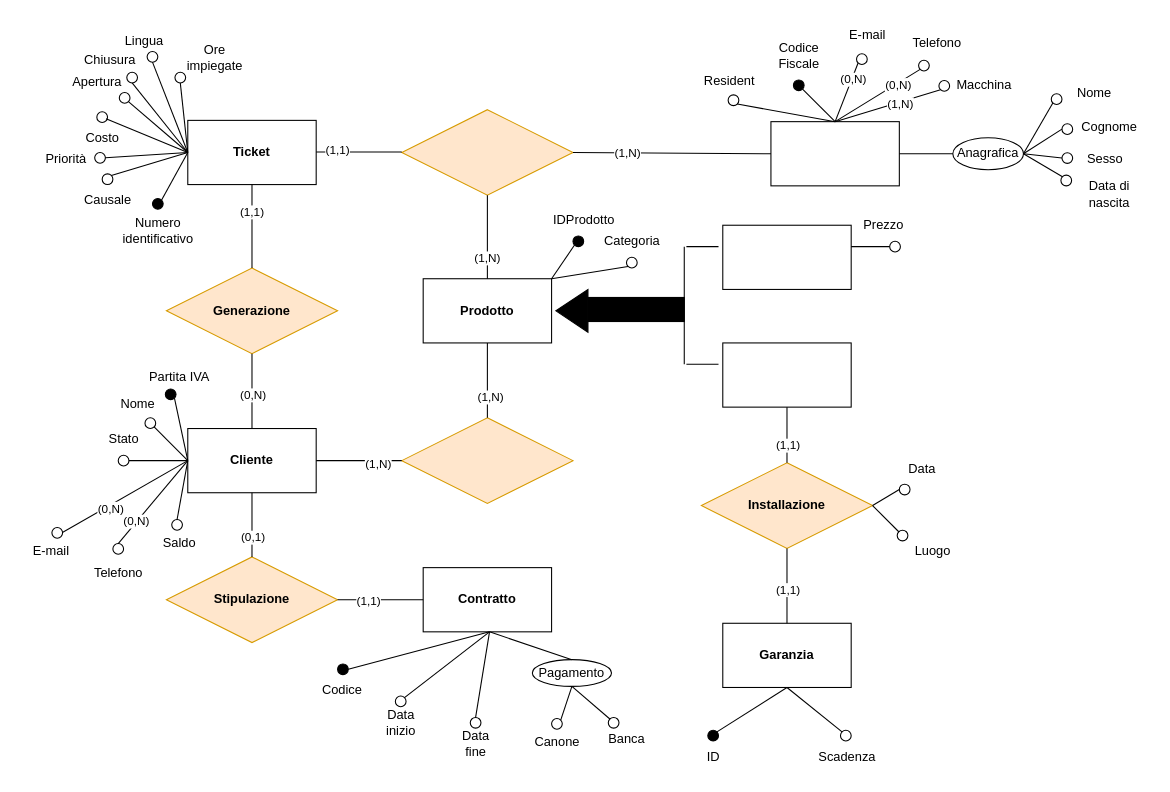
Image size: 1170x792. Some labels were removed from this diagram. The shapes that lost their labels are listed below. From the top down, each one's centre as x and y in pixels, then its label:
At (487,152): "Assistenza".
At (834,153): "Tecnico".
At (786,256): "Consumabile".
At (786,374): "Macchinario".
At (487,460): "Acquisto".
